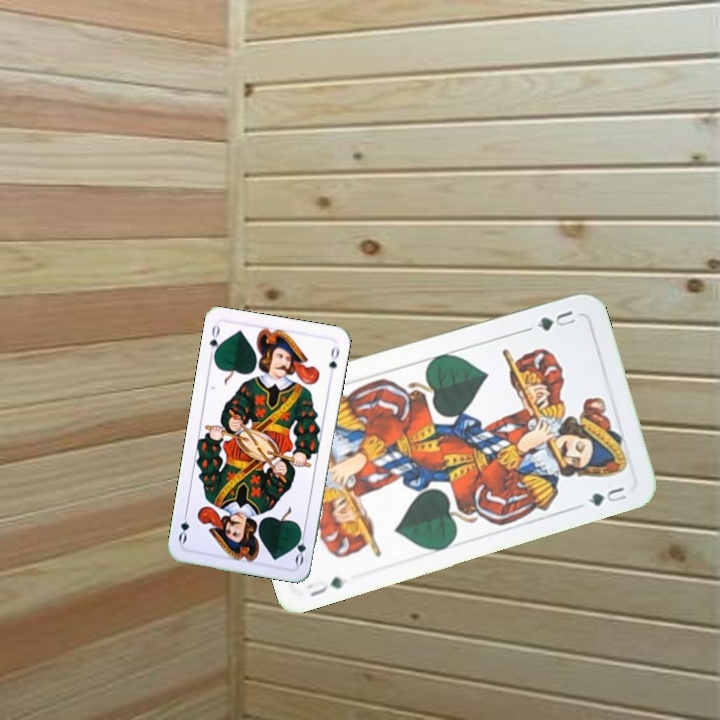GO: (205, 321, 224, 362), (291, 526, 308, 567)
GU: (532, 306, 578, 334), (302, 572, 347, 599)
